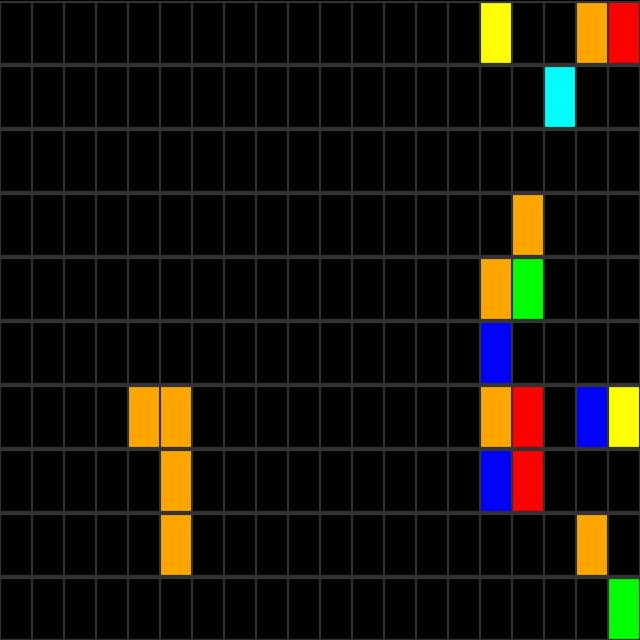Tetrimino_S: (128, 384, 190, 574)
